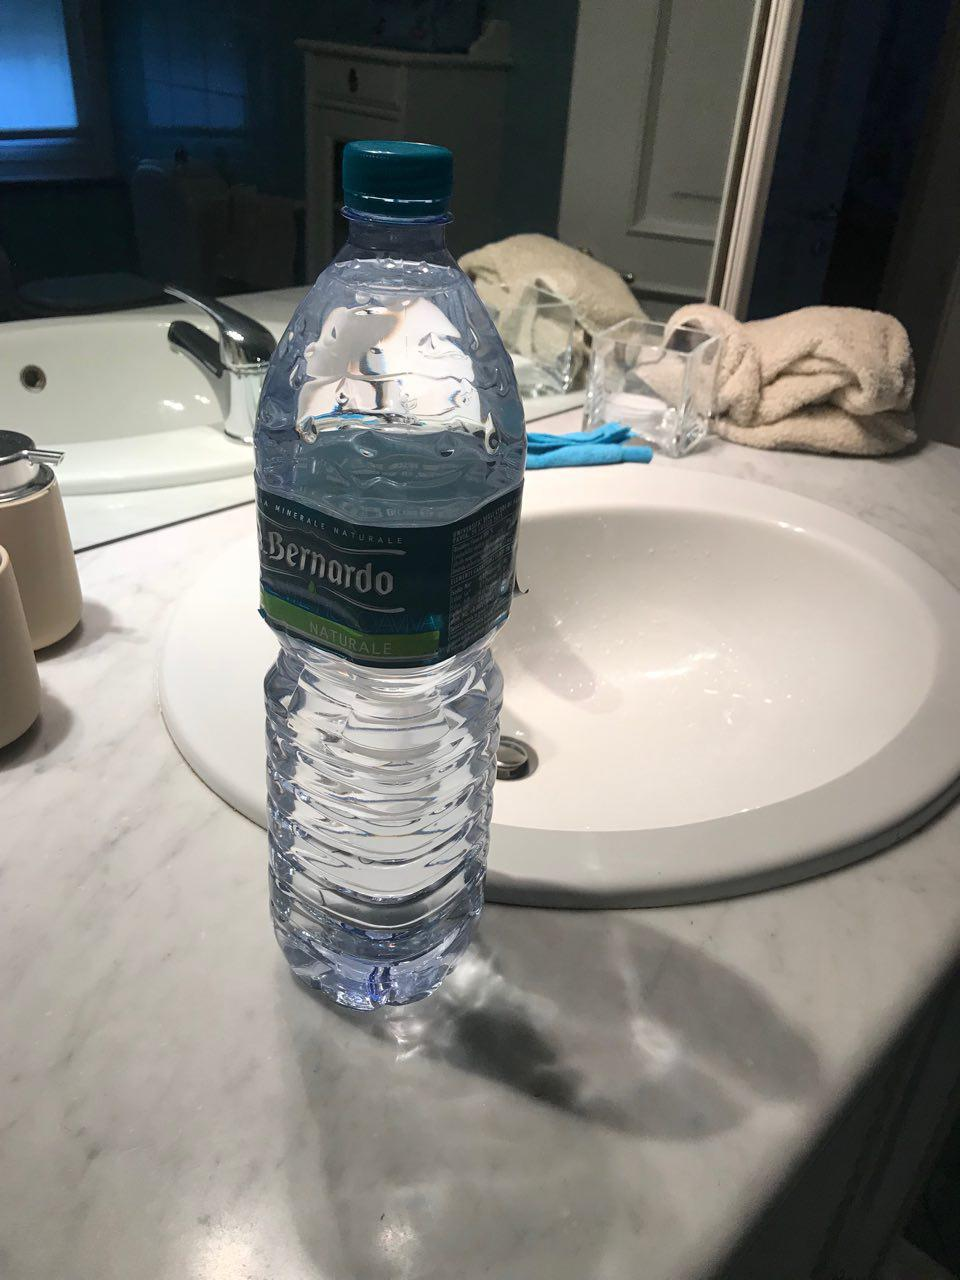san_bernardo: (251, 140, 528, 1012)
